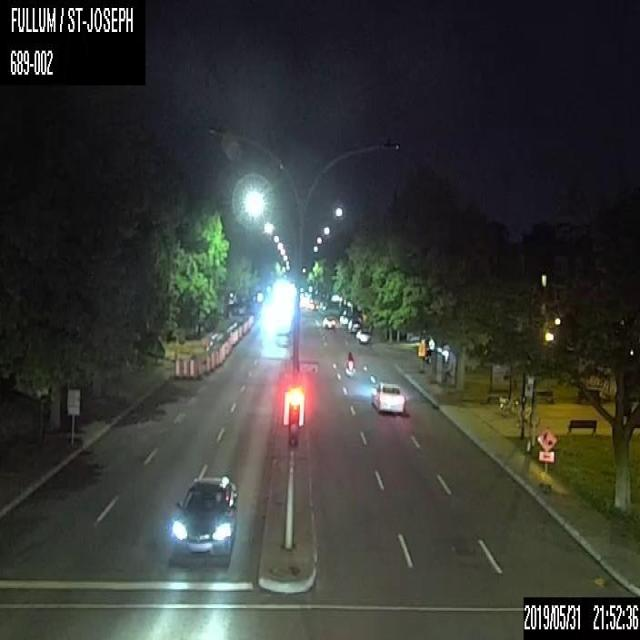construction: (536, 426, 558, 490), (417, 340, 425, 374), (188, 358, 195, 378), (174, 357, 180, 379), (196, 358, 202, 379), (208, 351, 214, 371), (203, 355, 209, 374), (182, 359, 188, 378), (214, 350, 218, 367)
vehicle: (170, 472, 237, 563), (370, 382, 405, 414), (344, 348, 356, 376), (355, 328, 371, 344), (347, 316, 362, 332), (322, 314, 336, 330)
